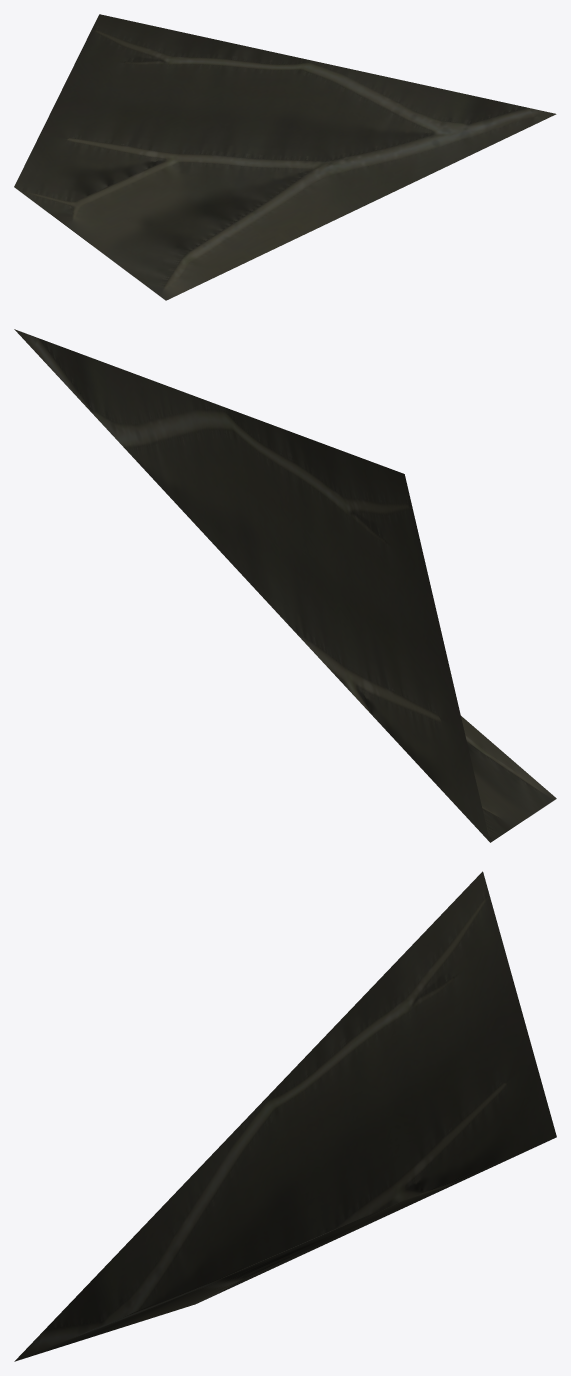
The model's file is FO_UnderBrush_01_Part_02_1S.fbx.
3 views of the same model, one above another, from view 1: azimuth 30°, elevation 25°; view 2: azimuth 150°, elevation 25°; view 3: azimuth 270°, elevation 25° (orthographic). The views are drawn at different scales.
Visible parts, largest first — view 1: FO_UnderBrush_01_Part_02_1S; view 2: FO_UnderBrush_01_Part_02_1S; view 3: FO_UnderBrush_01_Part_02_1S.
Boxes of the visible parts, left/top/right/bottom form: FO_UnderBrush_01_Part_02_1S: left=14, top=14, right=556, bottom=300; FO_UnderBrush_01_Part_02_1S: left=14, top=329, right=556, bottom=842; FO_UnderBrush_01_Part_02_1S: left=14, top=871, right=556, bottom=1361.
Size of the model in its own units: 1.07 by 0.5865 by 0.6547.
